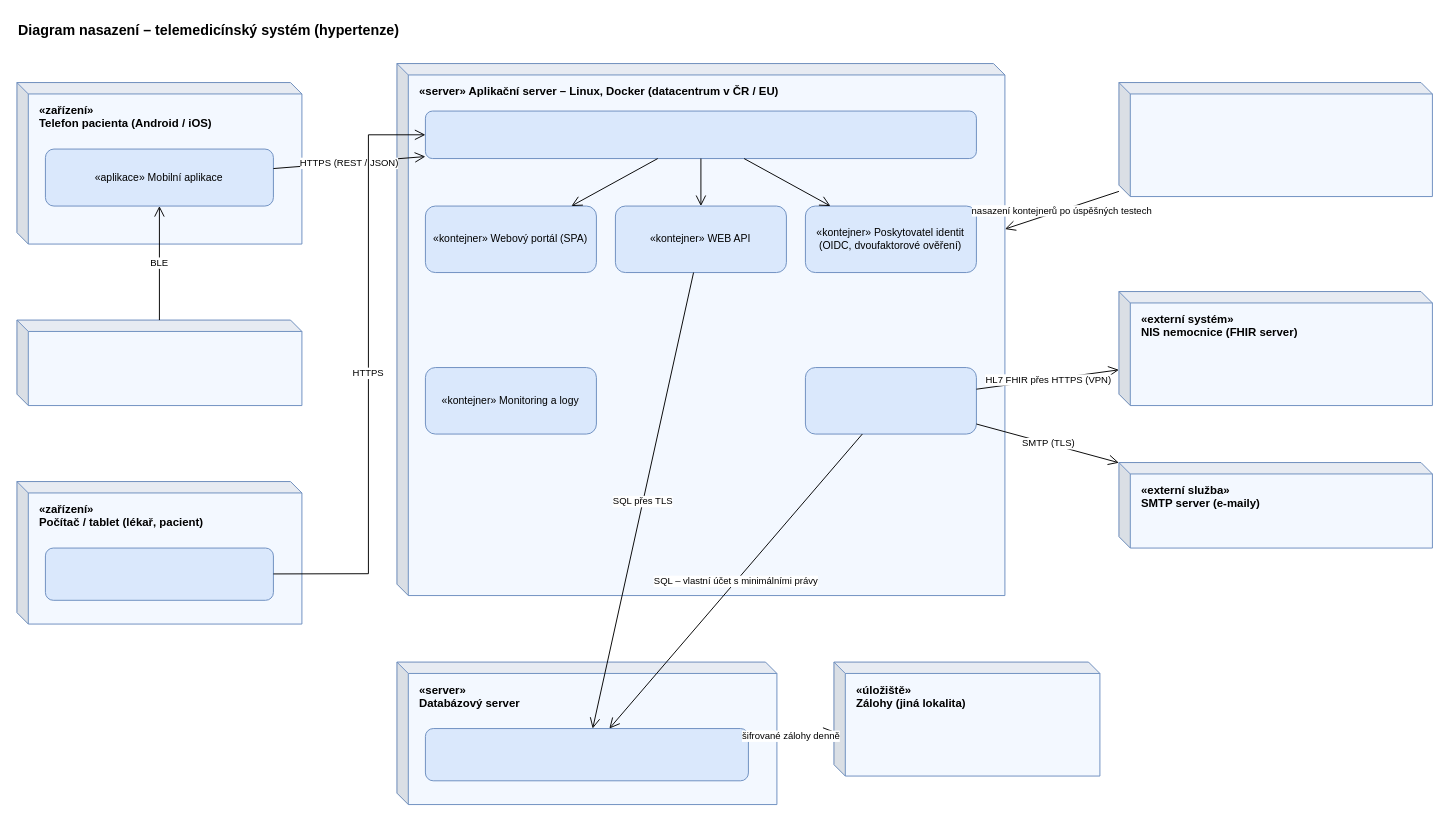
This 1449x822 diagram has some shape labels left out. The centre of each missing label's shape, as x and y in pixels:
«aplikace» Webový prohlížeč: the point at 158,573
«databáze» PostgreSQL (šifrovaná citlivá data): the point at 586,754
«kontejner» Integrátor NIS: the point at 890,400
«kontejner» Reverse proxy – HTTPS (TLS), firewall jen port 443: the point at 700,134
«služba» GitHub – repozitář, GitHub Actions (CI/CD): the point at 1275,139
«zařízení» Tlakoměr s Bluetooth: the point at 159,362
